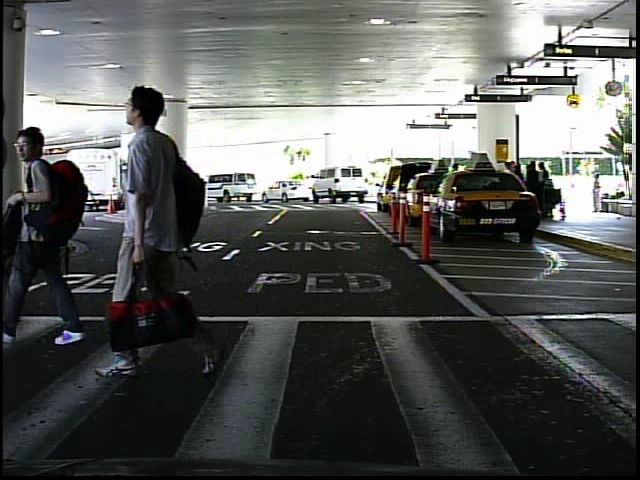person: (101, 76, 221, 393), (11, 114, 93, 352), (51, 171, 70, 221), (588, 171, 607, 217)
